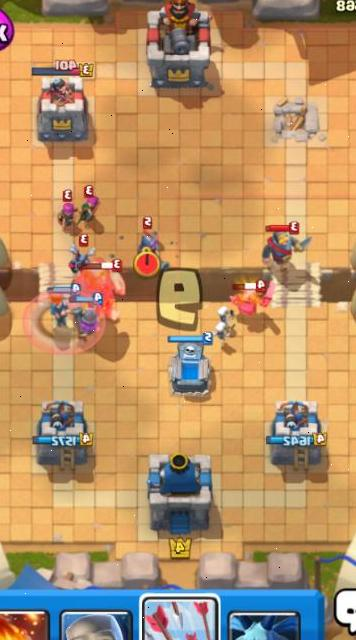enemy_archers: (78, 186, 104, 225), (54, 190, 80, 227)
enemy_giant: (70, 260, 127, 323)
enemy_knight: (258, 218, 316, 271)
enemy_mini_pekka: (225, 276, 282, 323)
enemy_musketeer: (134, 216, 167, 262)
player_minions: (67, 240, 96, 271)
player_musketeer: (67, 292, 109, 345)
player_skeletons: (211, 320, 239, 343), (211, 303, 241, 323)
player_tombstone: (159, 328, 223, 403)
player_valkyrie: (41, 282, 78, 324)
